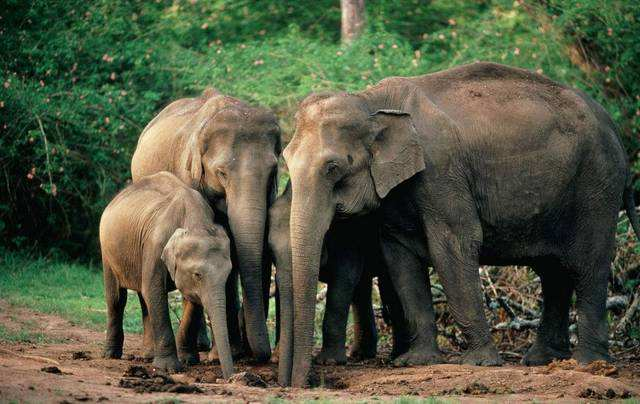elephant: (281, 61, 627, 380), (130, 92, 301, 364), (93, 176, 234, 376)
